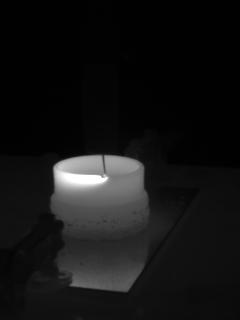tip_wire_left: (85, 149, 107, 177)
tip_wire_right: (103, 148, 116, 177)
